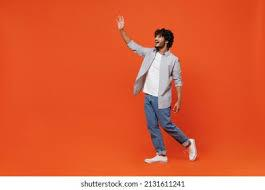Human: (112, 10, 200, 168)
